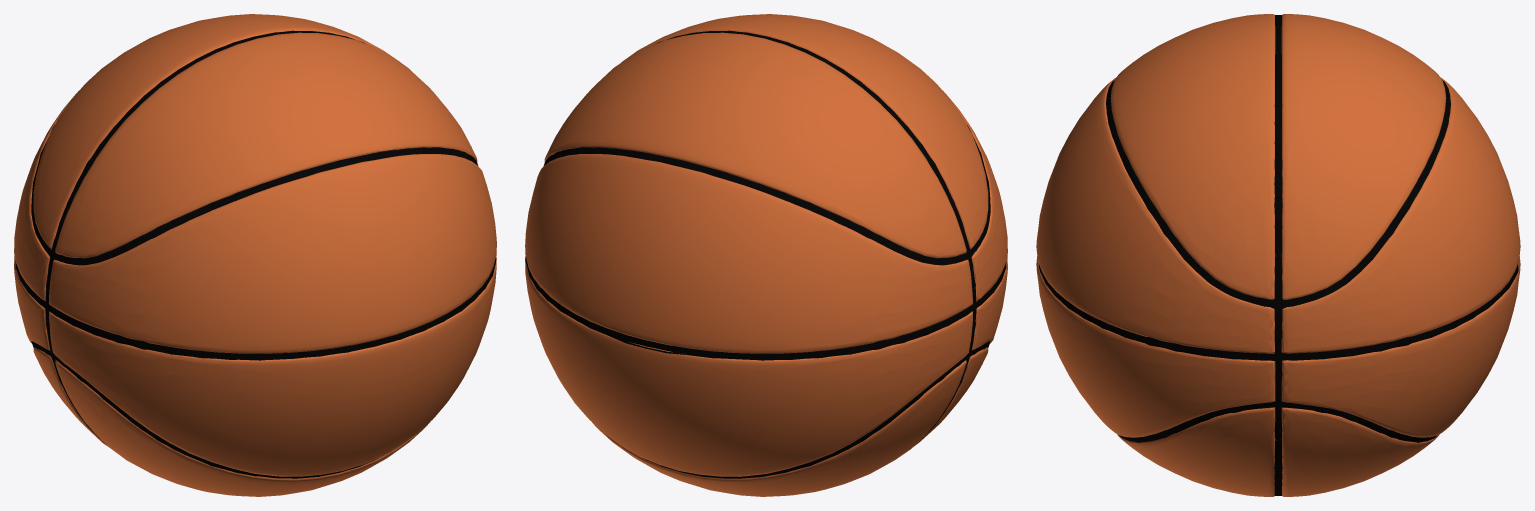
File: Basketball_compressed.glb
The picture shows the model from 3 angles, left to right: view 1: azimuth 30°, elevation 25°; view 2: azimuth 150°, elevation 25°; view 3: azimuth 270°, elevation 25°; orthographic projection.
Visible parts, largest first — view 1: bbc_ball_body, Sphere; view 2: bbc_ball_body, Sphere; view 3: bbc_ball_body, Sphere.
Part boxes in pixels (x1,y1,x2,y2): bbc_ball_body: [14, 14, 496, 496]; Sphere: [15, 30, 495, 478]; bbc_ball_body: [525, 14, 1007, 496]; Sphere: [526, 30, 1006, 478]; bbc_ball_body: [1036, 14, 1520, 496]; Sphere: [1039, 15, 1518, 495].
Bounding box in the file's own units: 1 × 1 × 1.
